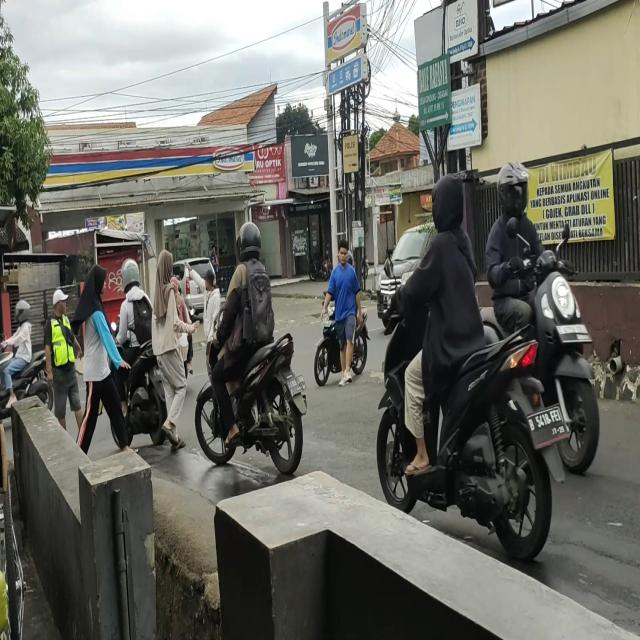helmet: (497, 158, 532, 215), (234, 217, 261, 264), (120, 260, 142, 295), (15, 297, 29, 324)
no-helmet: (433, 173, 464, 233)
